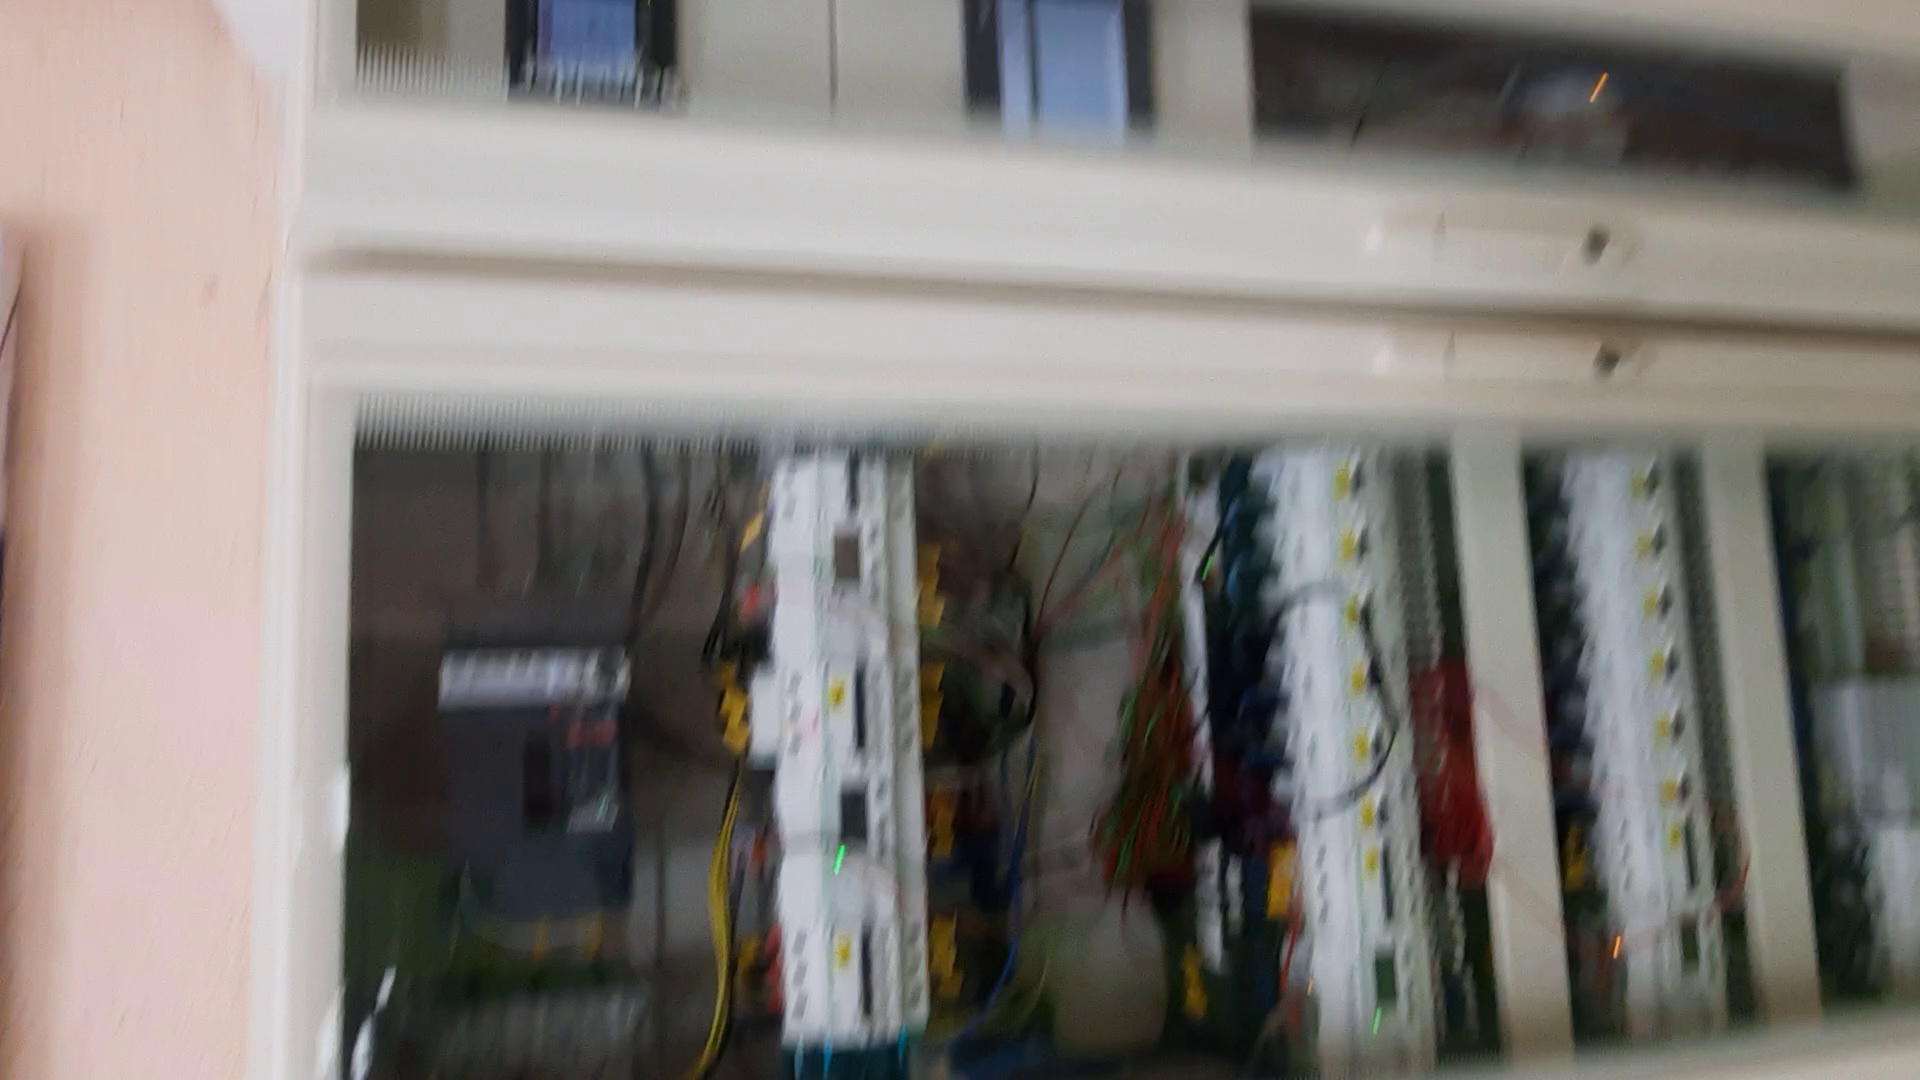stand1: (276, 1, 1920, 1080)
